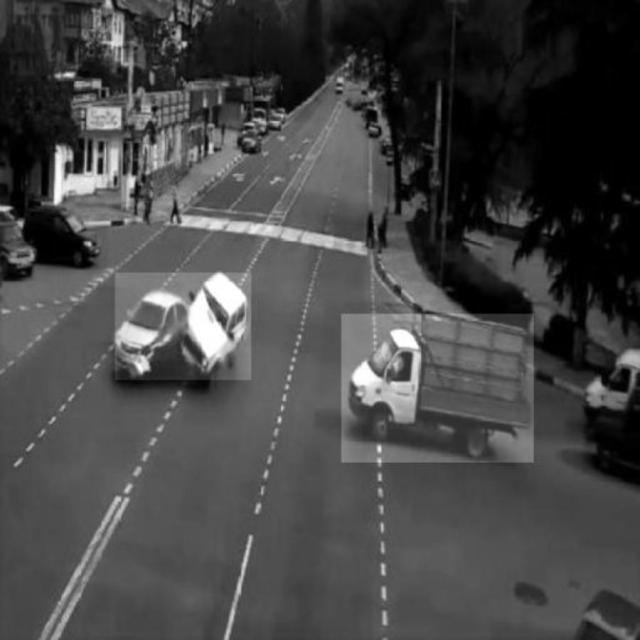accident: (116, 273, 252, 381)
vehicle: (342, 314, 534, 462), (20, 204, 108, 270)
